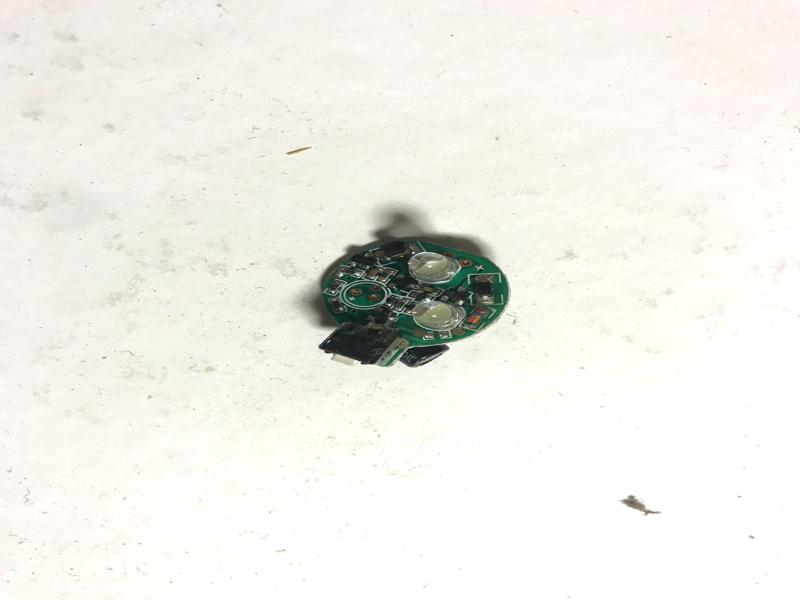Capacitor: (397, 341, 453, 372)
LED: (413, 298, 466, 333), (407, 249, 457, 285)
